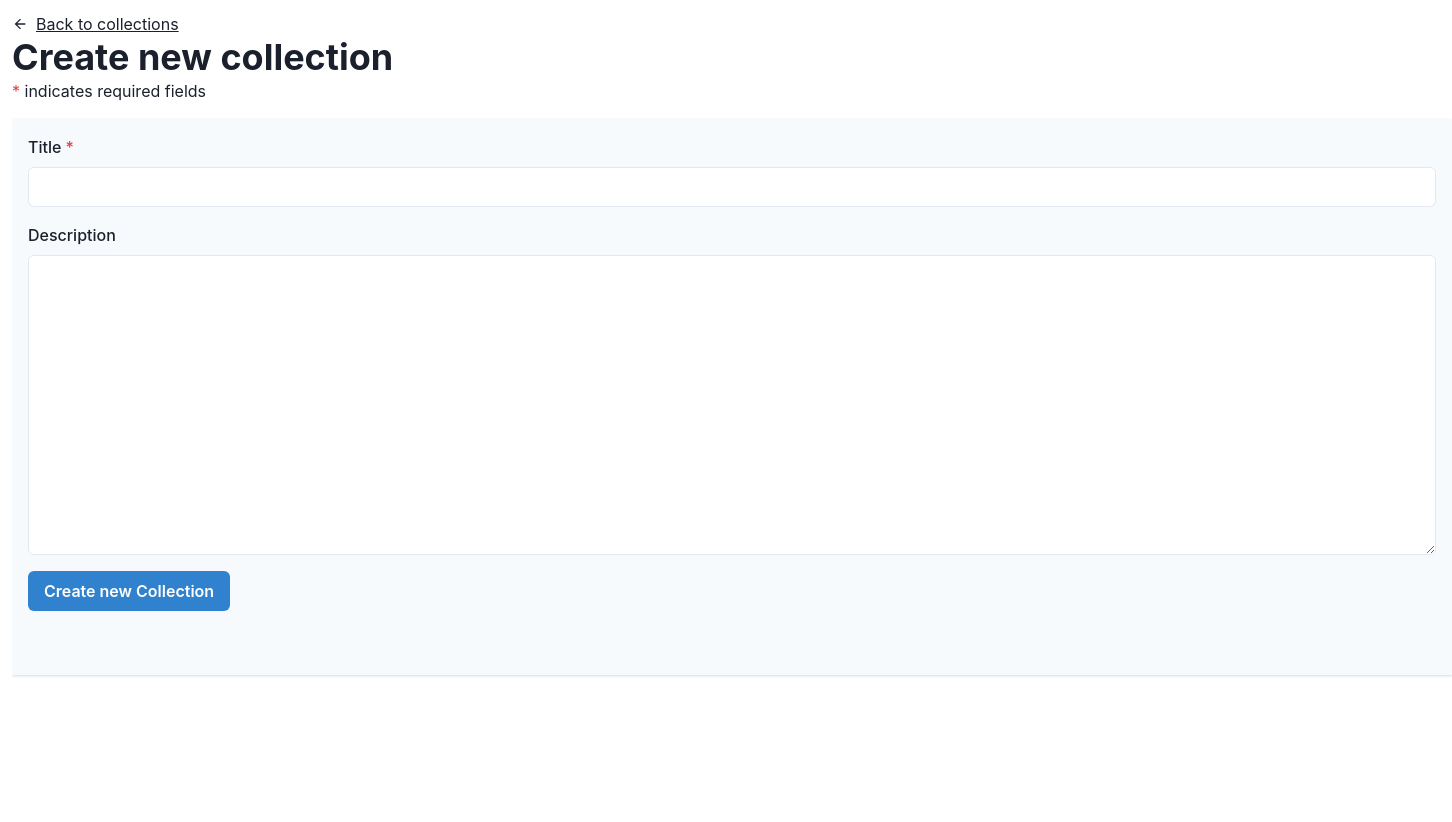
Test case: Collection form › successfully creates collection
The image size is (1452, 822).
Expected: the heading "Create new collection" is shown, [12,35,393,79]
Type "New collection title" into the field labelled "Title" at point(732, 187), box [28,167,1436,207]
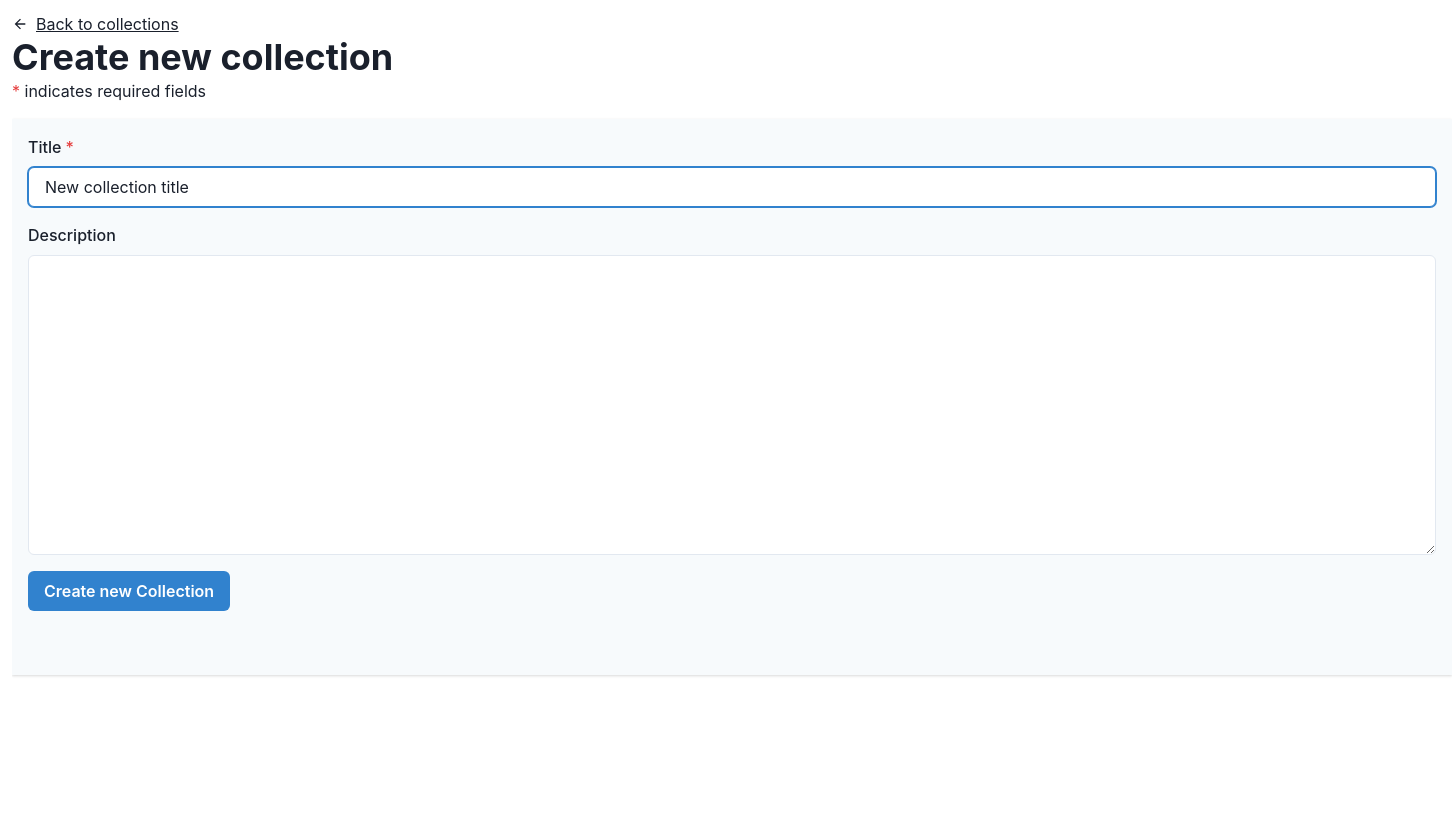
Type "Test description" into the text box labelled "Description" at point(732, 405), box [28,255,1436,555]
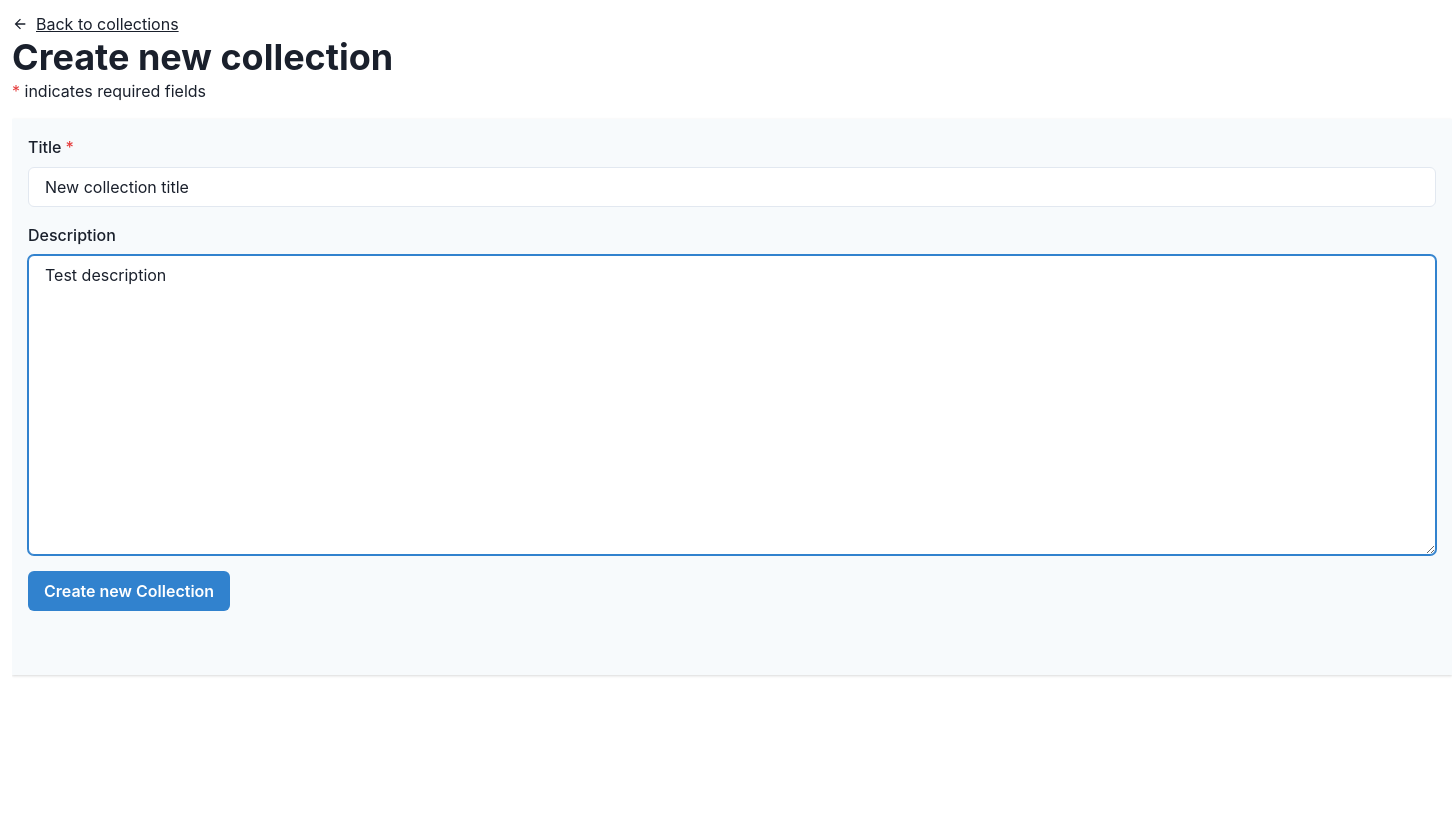
Click the button "Create new Collection" at point(129, 591), box [28,571,230,611]
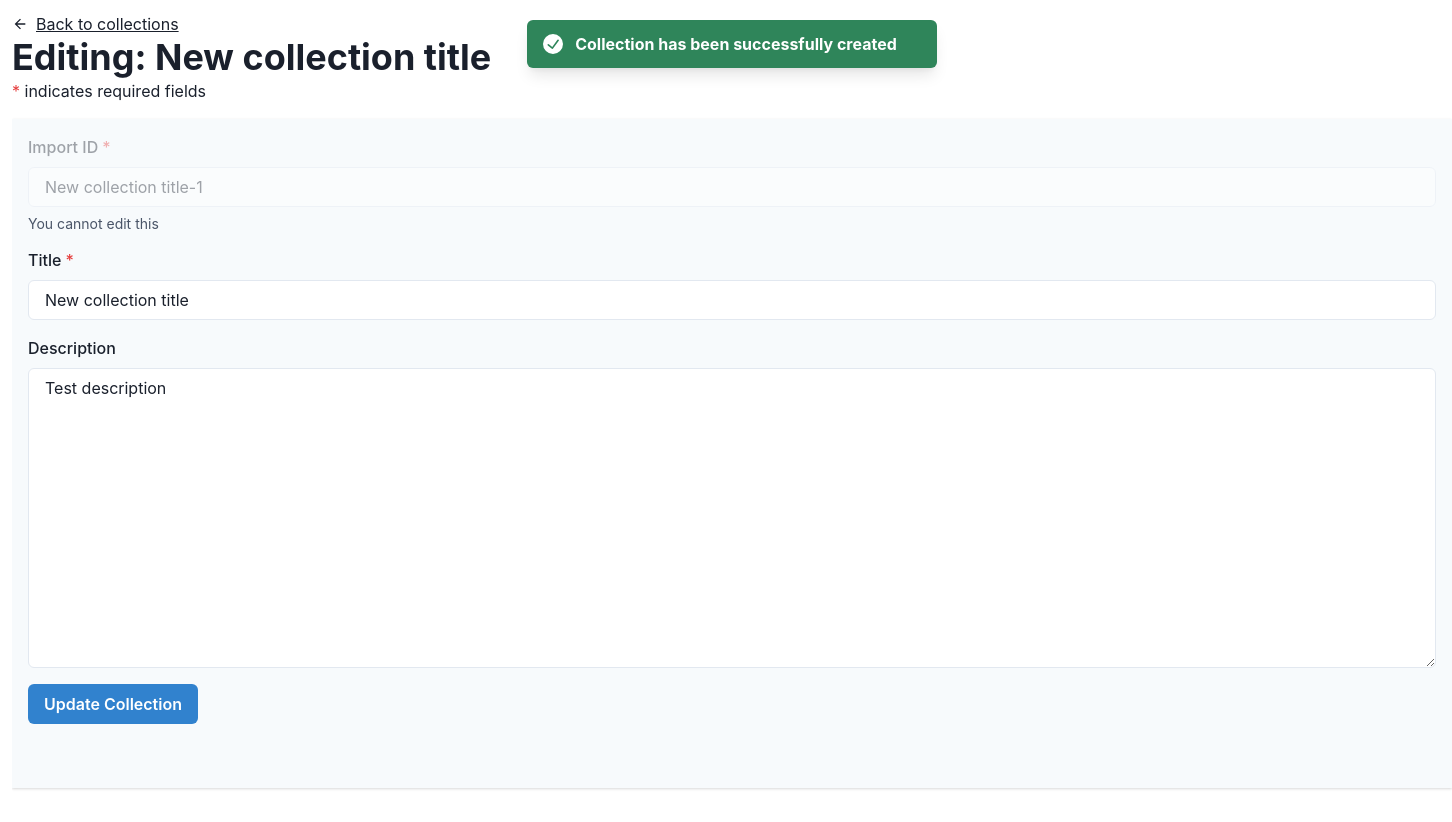
Result: the text "Collection has been successfully created" is shown at [575,32,897,56]
